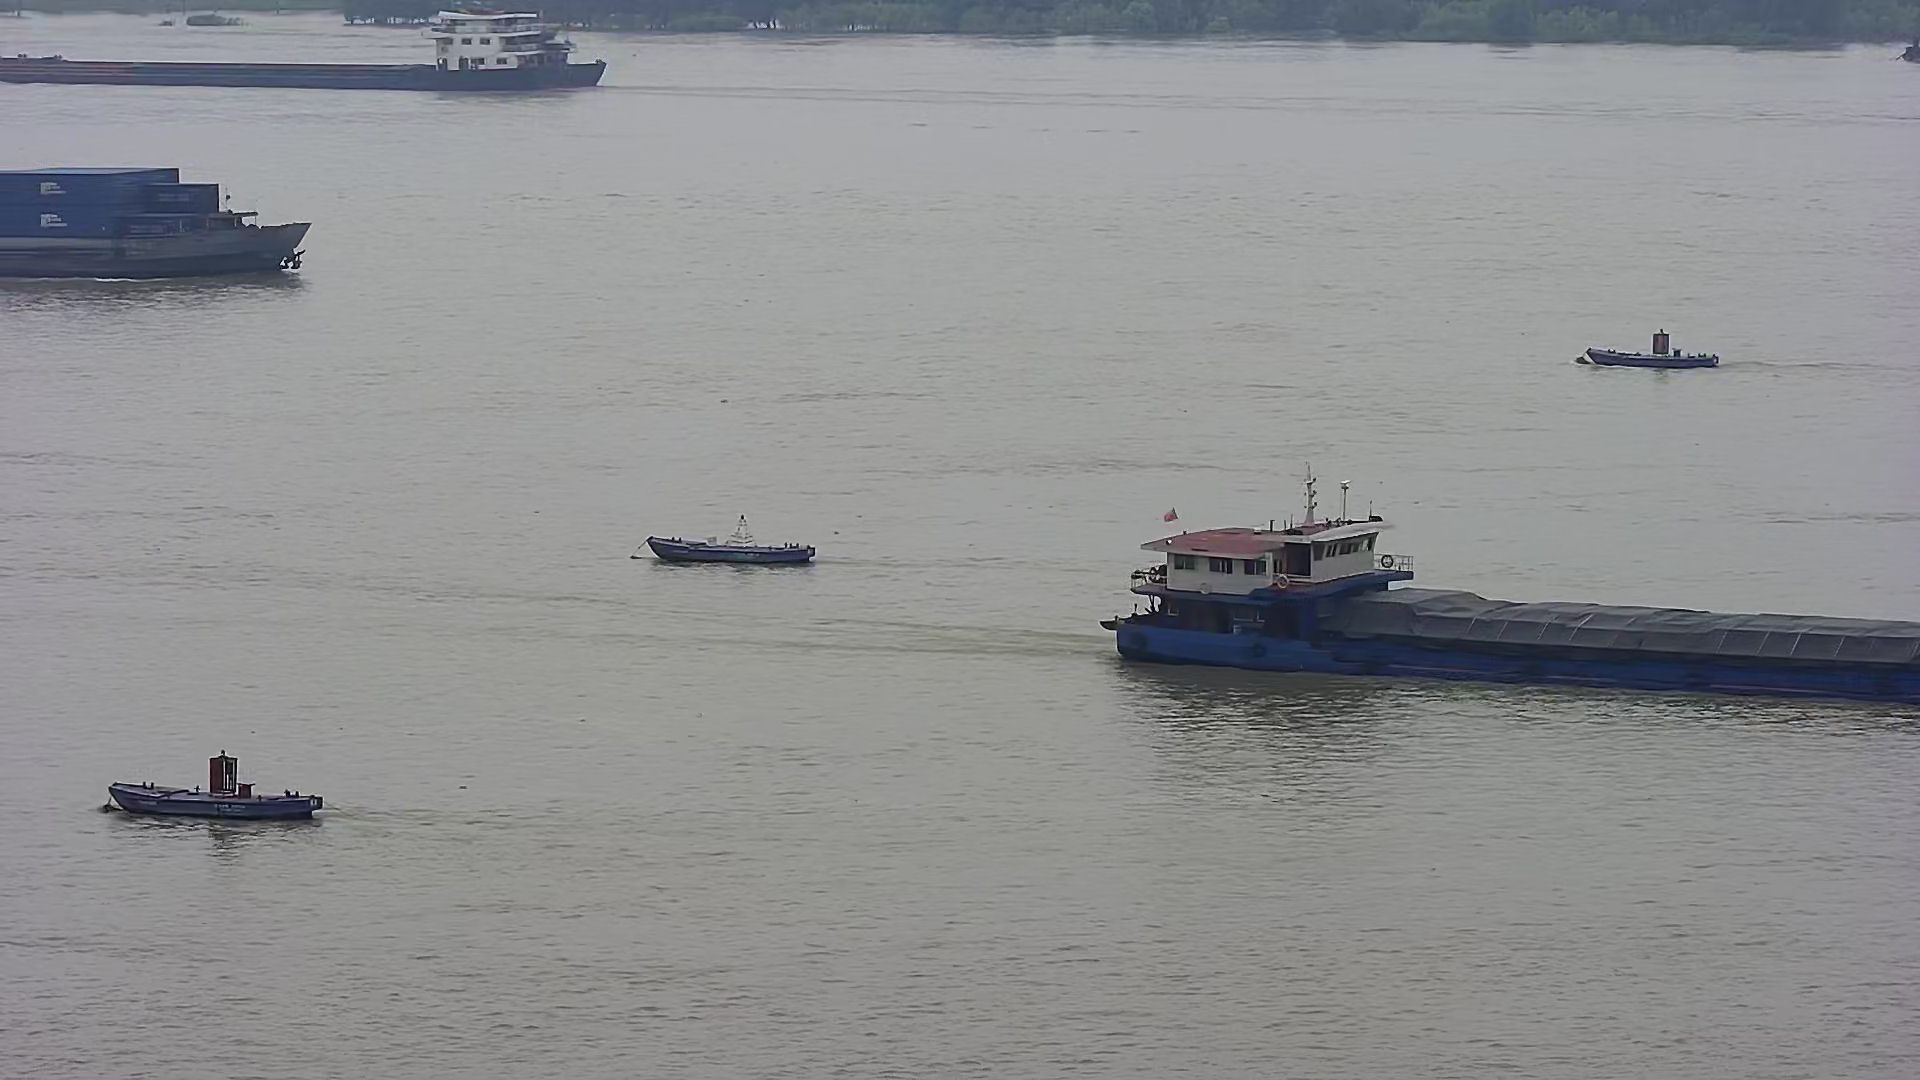boat: (108, 752, 322, 824), (642, 508, 814, 567), (1577, 323, 1727, 368)
ship: (1095, 464, 1920, 705), (1, 15, 608, 90), (1, 160, 316, 284)
